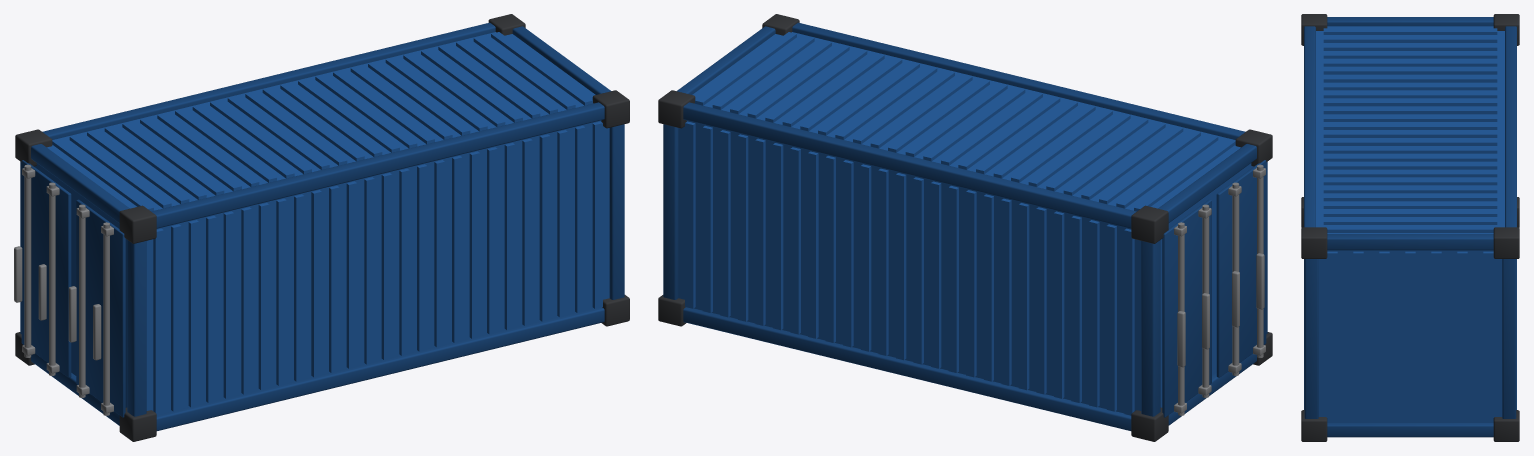
File: container.glb
The picture shows the model from 3 angles, left to right: view 1: azimuth 30°, elevation 25°; view 2: azimuth 150°, elevation 25°; view 3: azimuth 270°, elevation 25°; orthographic projection. The views are drawn at different scales.
Visible parts, largest first — view 1: Corrugation, Body, Frame, Doors, LockingBars, CornerCastings; view 2: Corrugation, Body, Frame, Doors, LockingBars, CornerCastings; view 3: Corrugation, Body, Frame, CornerCastings.
Part boxes in pixels (left/top/right/bottom): Corrugation: left=52, top=32, right=602, bottom=415; Body: left=34, top=32, right=609, bottom=413; Frame: left=20, top=22, right=624, bottom=430; Doors: left=21, top=160, right=125, bottom=417; LockingBars: left=14, top=164, right=113, bottom=415; CornerCastings: left=15, top=14, right=629, bottom=441; Corrugation: left=685, top=32, right=1235, bottom=415; Body: left=678, top=32, right=1253, bottom=413; Frame: left=663, top=22, right=1267, bottom=430; Doors: left=1162, top=160, right=1266, bottom=417; LockingBars: left=1174, top=164, right=1265, bottom=415; CornerCastings: left=658, top=14, right=1272, bottom=441; Corrugation: left=1323, top=28, right=1497, bottom=422; Body: left=1316, top=26, right=1504, bottom=422; Frame: left=1304, top=17, right=1516, bottom=437; CornerCastings: left=1301, top=14, right=1519, bottom=441.
Size of the model in its own units: 3.15 by 1.3 by 1.26.
